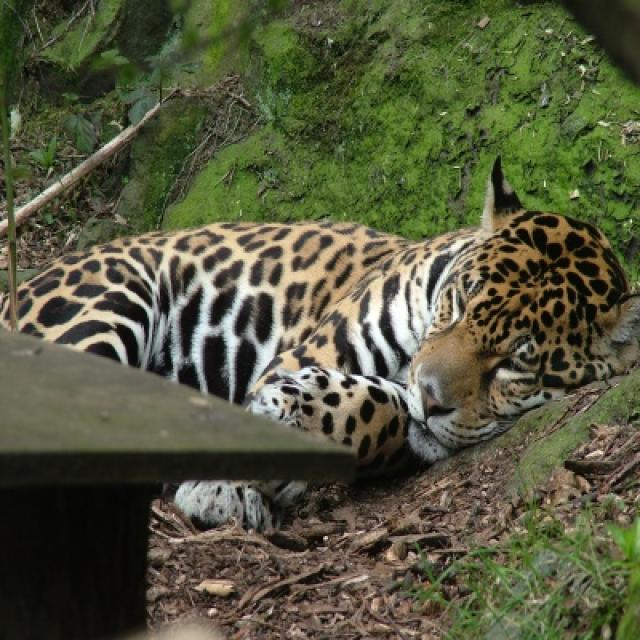Jaguar: (0, 163, 638, 483)
